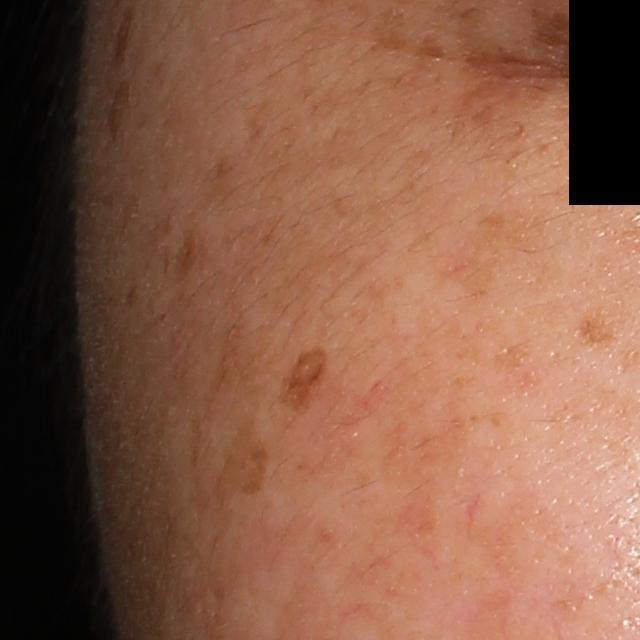melasma: (430, 204, 558, 300), (444, 81, 536, 165), (515, 0, 604, 72), (220, 404, 277, 502), (415, 384, 479, 465), (272, 343, 329, 424), (173, 222, 205, 290), (245, 95, 284, 145), (582, 307, 615, 358), (116, 7, 135, 72), (412, 29, 442, 65)
